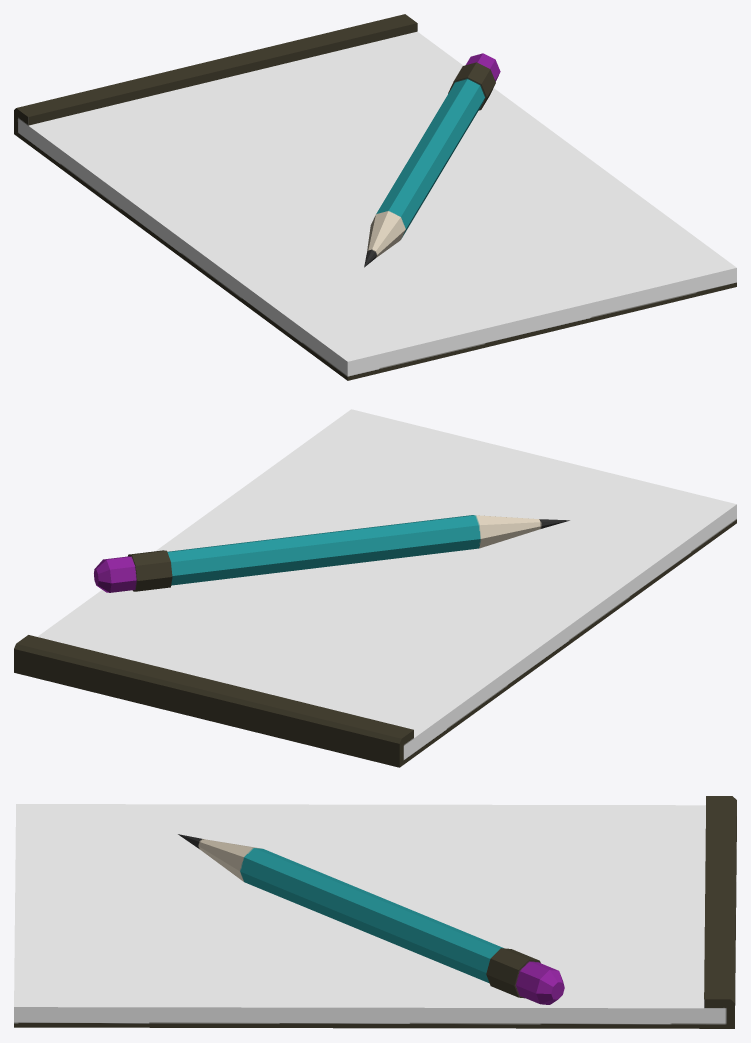
Rendered from Notepad.fbx.
3 views of the same model, one above another, from view 1: azimuth 30°, elevation 25°; view 2: azimuth 150°, elevation 25°; view 3: azimuth 270°, elevation 25° (orthographic). The views are drawn at different scales.
Visible parts, largest first — view 1: Notebook; view 2: Notebook; view 3: Notebook.
Part boxes in pixels (left/top/right/bottom): Notebook: left=14, top=14, right=736, bottom=380; Notebook: left=14, top=409, right=736, bottom=767; Notebook: left=14, top=796, right=736, bottom=1028.
Size of the model in its own units: 20.41 by 2.64 by 30.09.
1 material, 1 textured.
